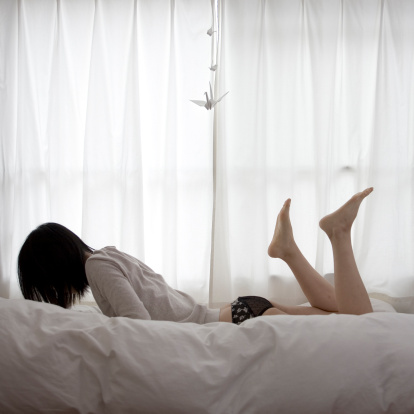deitado: (2, 203, 227, 335)
